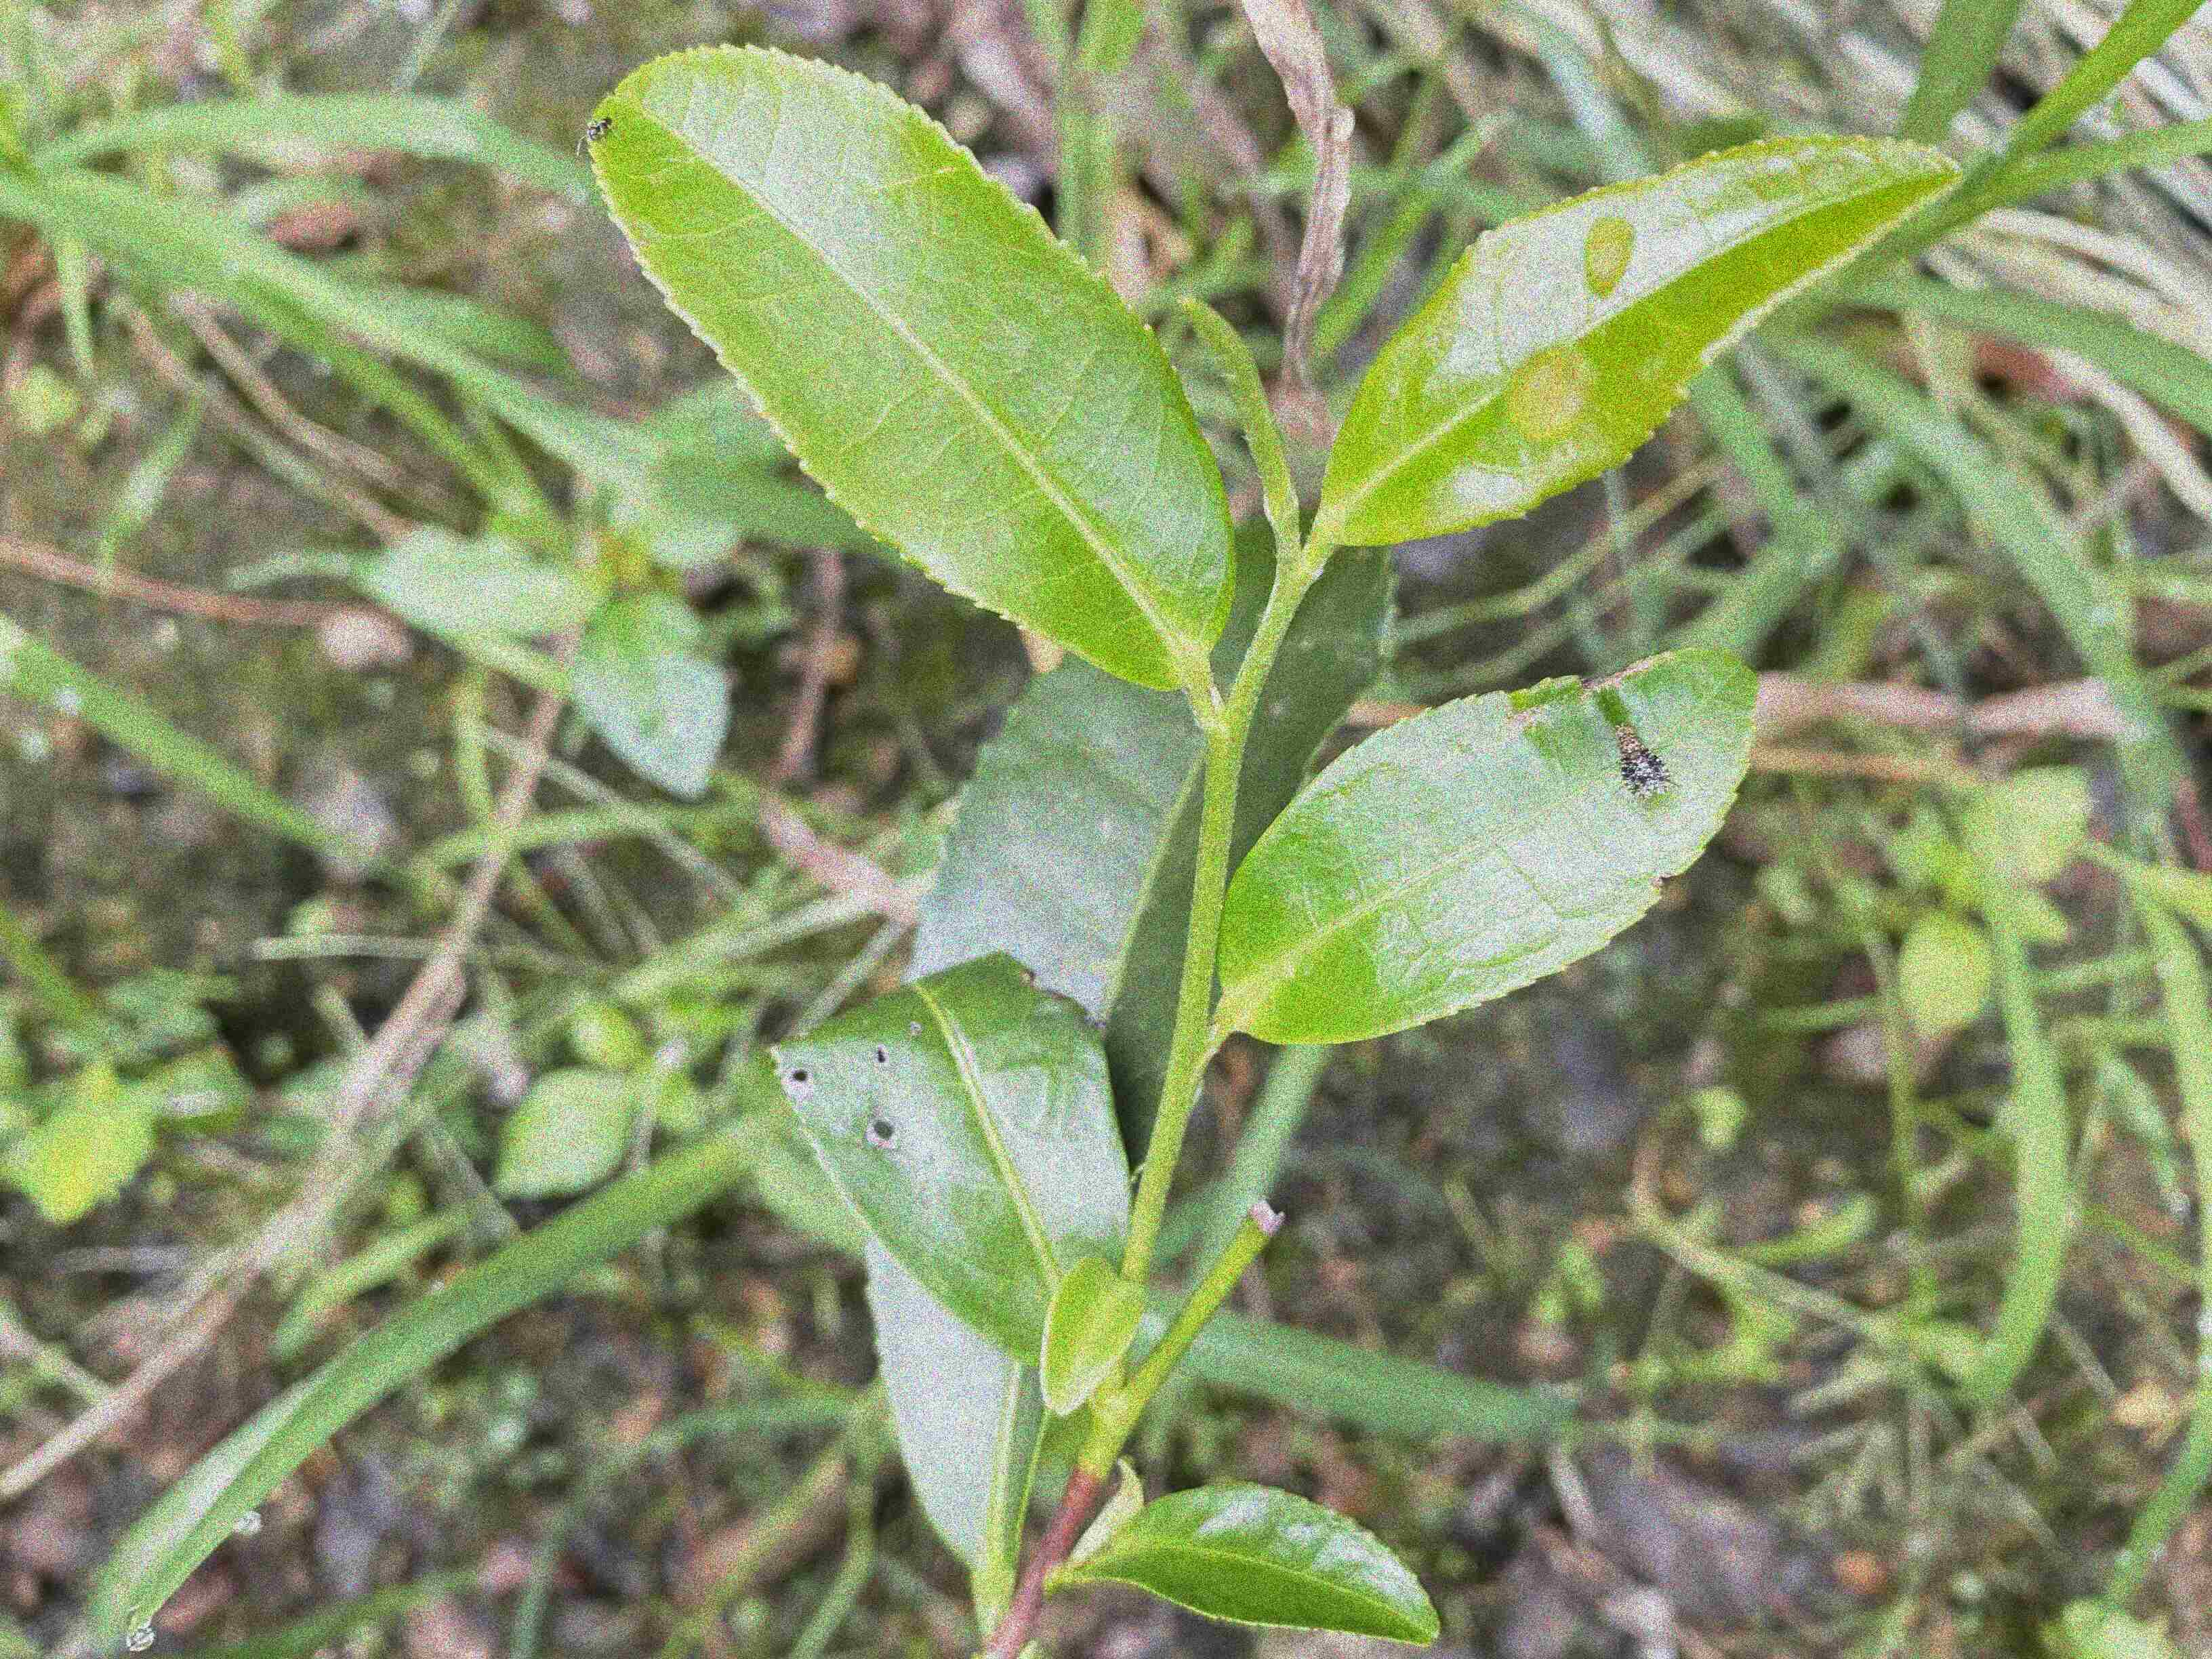chabing_high: (1317, 129, 1970, 549)
chihuo_high: (765, 950, 1132, 1363)
healthy: (590, 44, 1237, 692), (1080, 1476, 1444, 1643), (1040, 1244, 1144, 1413)
tanju_low: (1219, 650, 1759, 1047)
